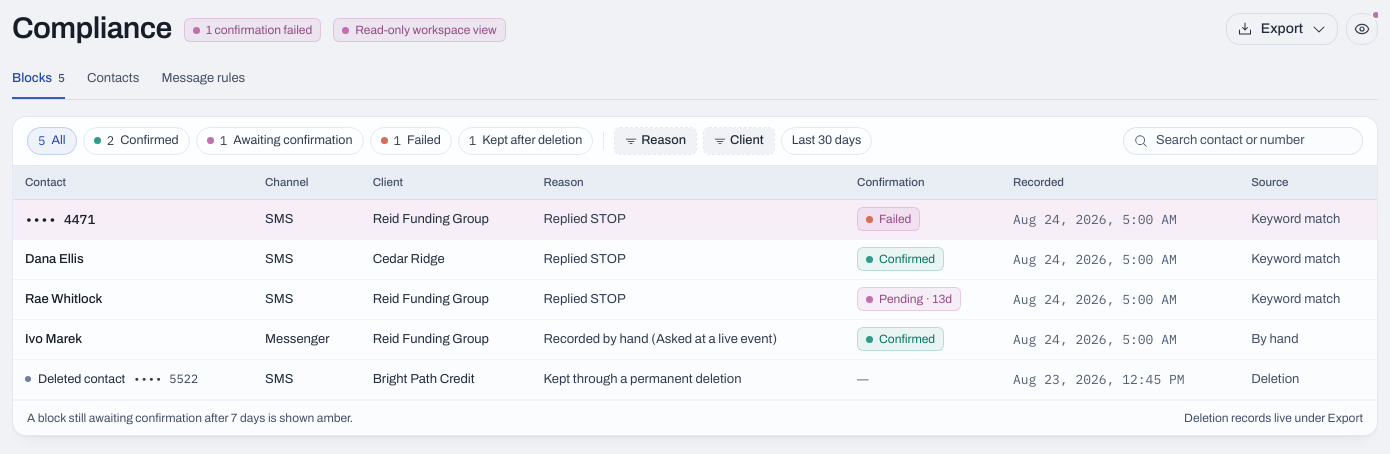
Test: OwnerCompliance, review fixes › gives the blocks export under impersonation, and the deletion export to nobody there
The image size is (1390, 454).
Click the button "Export" at (1282, 29), box [1226, 13, 1338, 45]
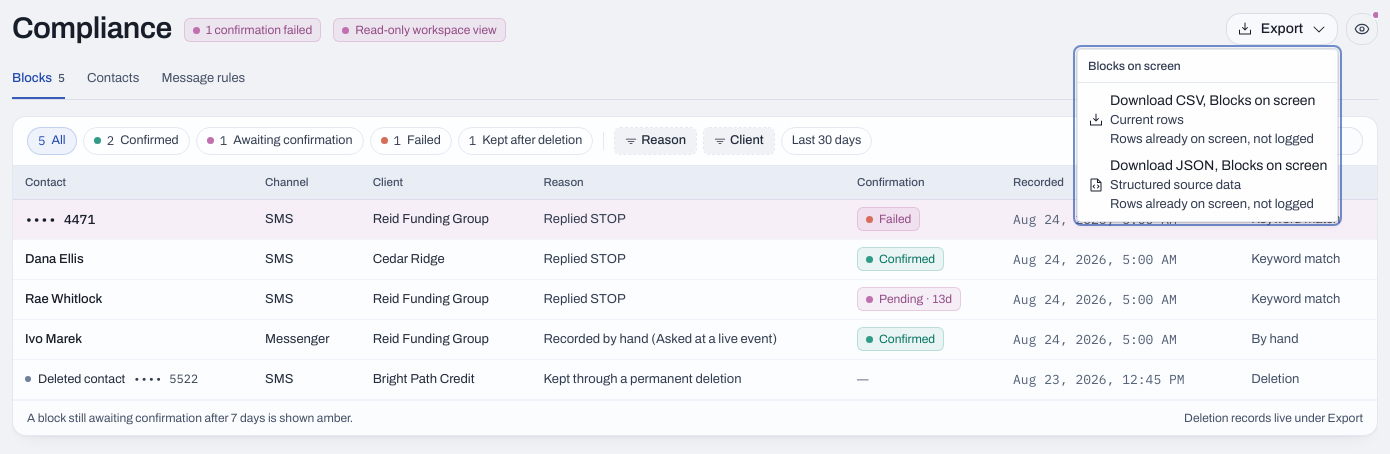
Check: the menu item "Download CSV, Blocks on screen" is shown, box [1082, 87, 1333, 152]
